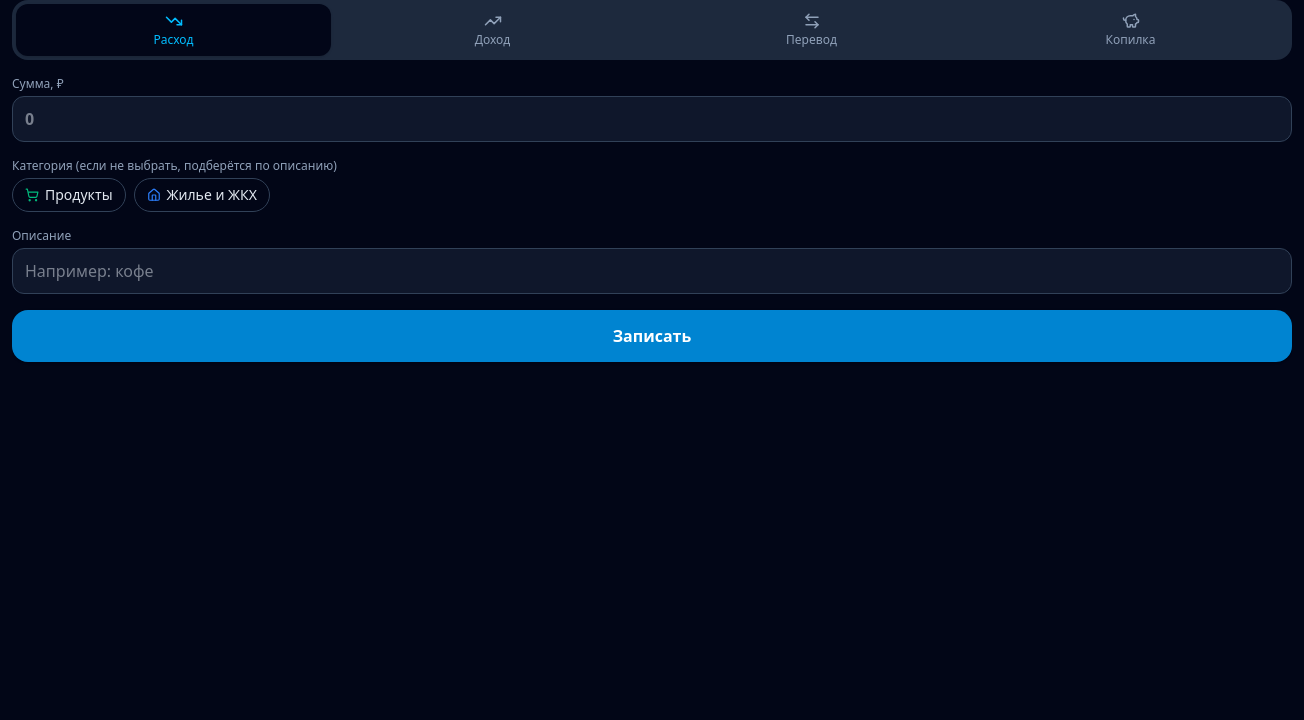
EntryForm (Mini App input) › deposits into a goal and refreshes its balance
Expected: the element named "Тип записи" is shown, [12,0,1292,60]
Click the tab "Копилка".
click(1130, 30)  # box [973,4,1288,56]
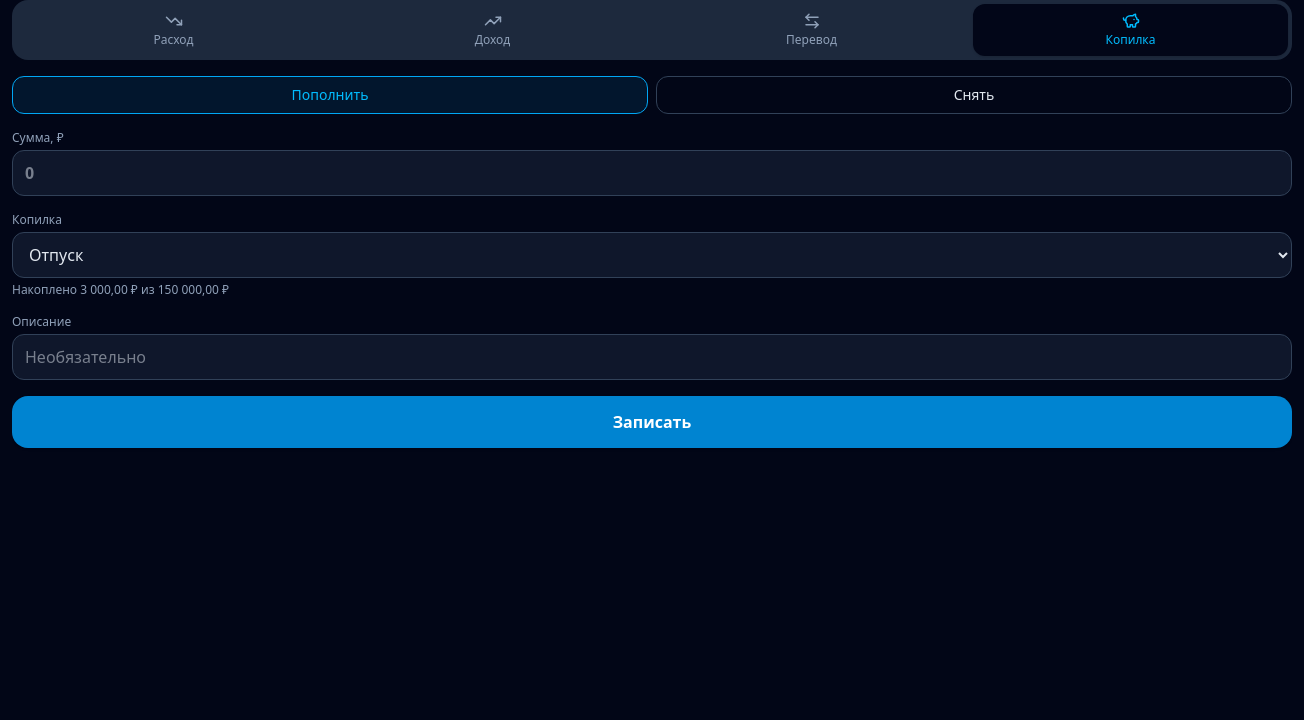
Now the dropdown labelled "Копилка" shows "Отпуск", box [12,232,1292,278]
Now the text "Накоплено" is shown, box [12,281,80,298]
Type "5000" into the field labelled "Сумма, ₽".
click(652, 173); type("5000")  # box [12,150,1292,196]
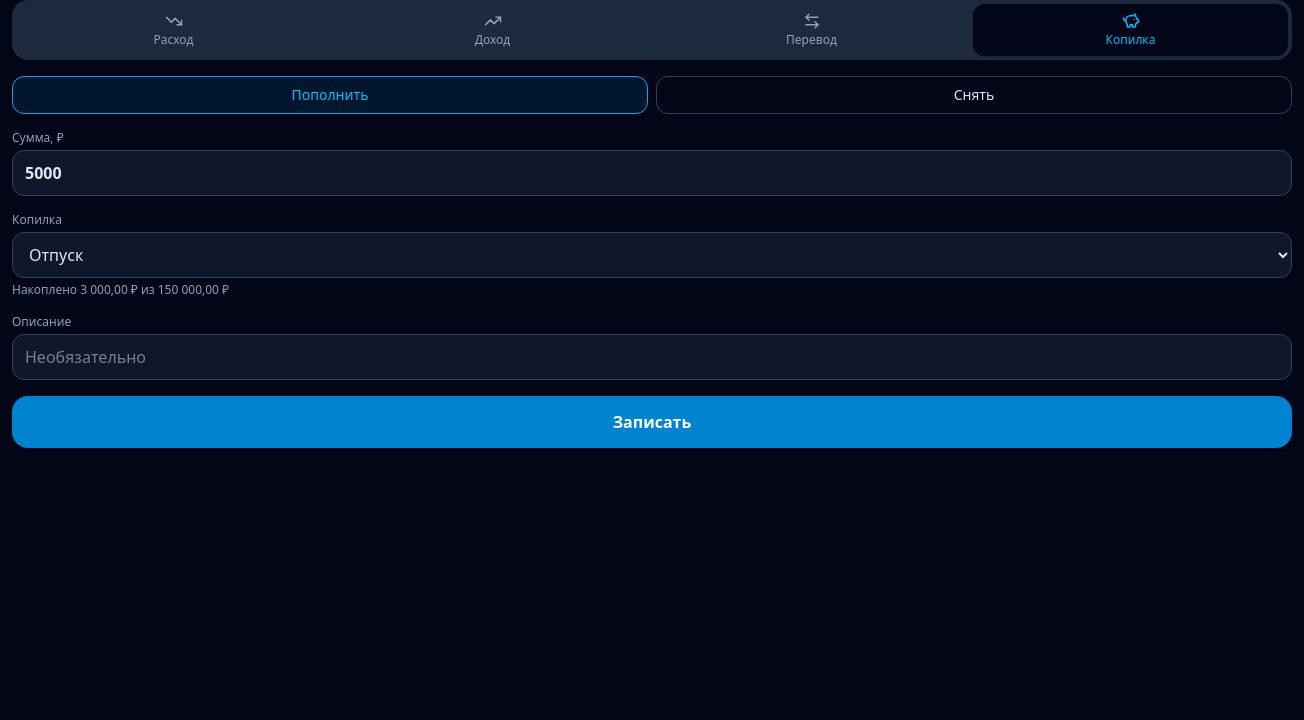
Click the button "Записать".
click(652, 422)  # box [12,396,1292,448]
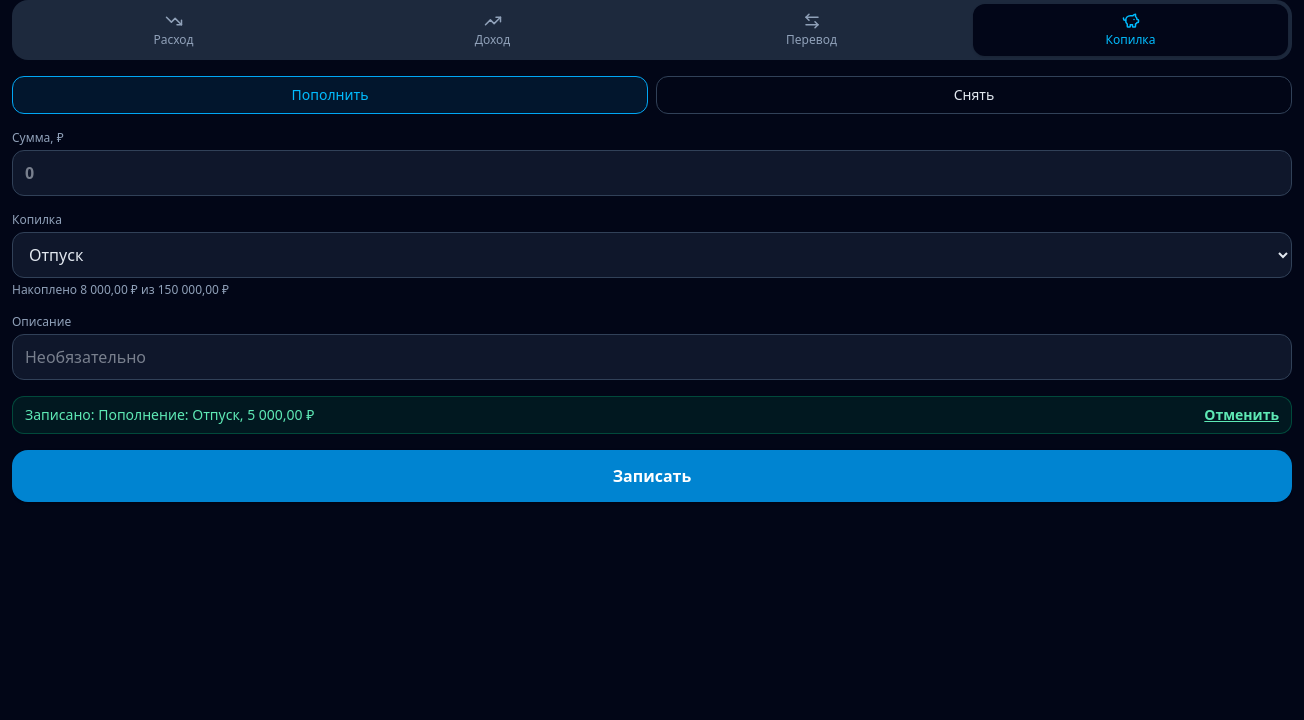
Now the text "Записано: Пополнение: Отпуск, 5 000,00 ₽" is shown, box [25,405,314,425]
Now the text "Накоплено 8 000,00 ₽" is shown, box [12,281,229,298]
